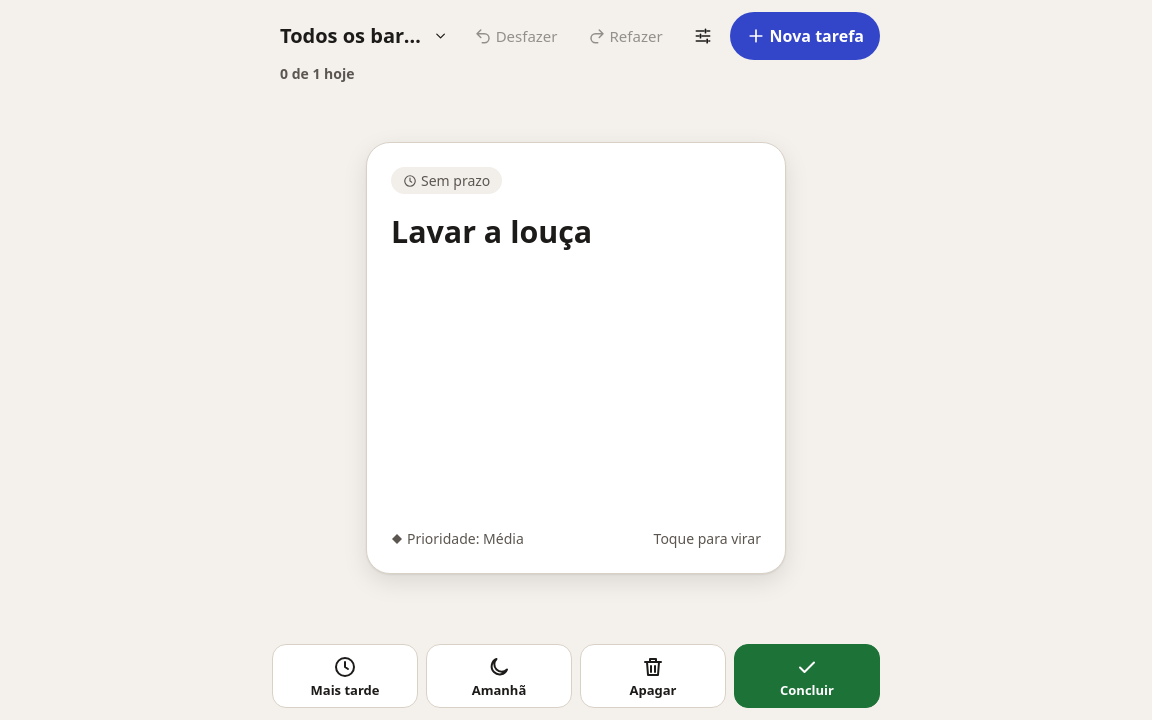
Test: settings: storage status › shows persistent storage {"supported":true,"persisted":true} as "sim"
Click the button named "Configurações".
click(703, 36)  # box x1=680 y1=12 x2=726 y2=60
(page scrolled)
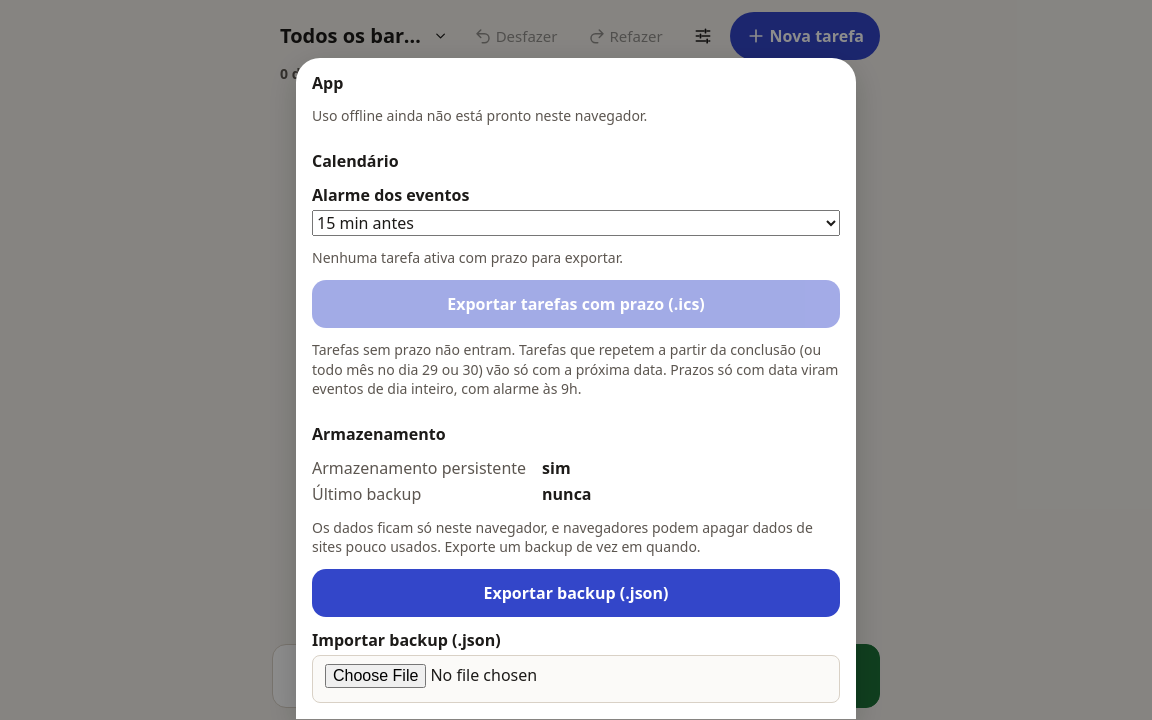
Result: the text with test id "persistent-status" reads "sim" at x1=542 y1=457 x2=571 y2=479
